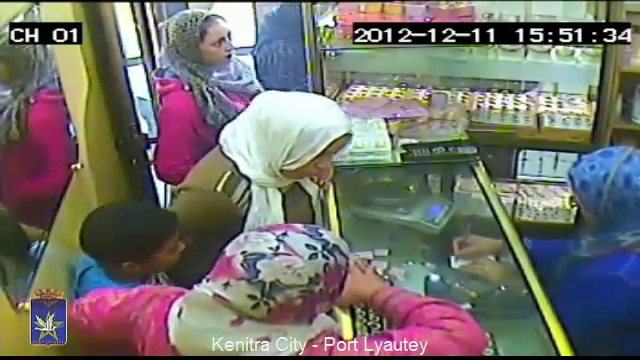face: (138, 227, 186, 276), (196, 20, 239, 62)
